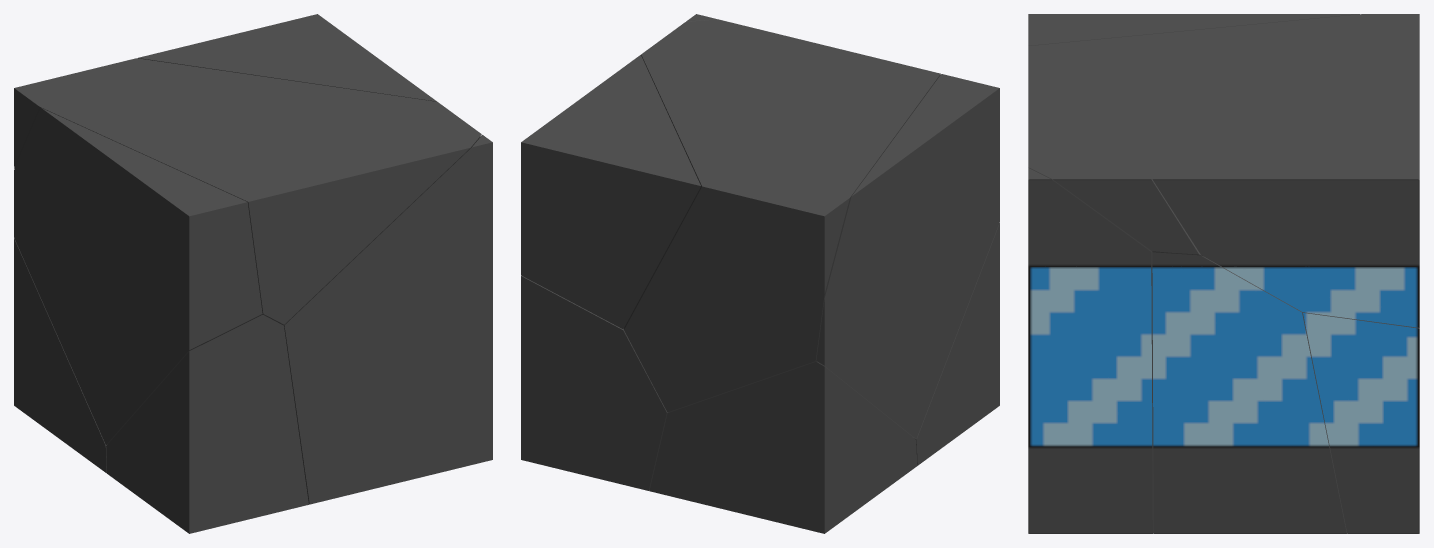
The model's file is GlassBuildingH128x128_Floor01_break.fbx.
The picture shows the model from 3 angles, left to right: view 1: azimuth 30°, elevation 25°; view 2: azimuth 150°, elevation 25°; view 3: azimuth 270°, elevation 25°; orthographic projection. The views are drawn at different scales.
Visible parts, largest first — view 1: Floor01Break02, Floor01Break04, Floor01Break07, Floor01Break08, Floor01Break05, Floor01Break06; view 2: Floor01Break02, Floor01Break07, Floor01Break05, Floor01Break06, Floor01Break03, Floor01Break08; view 3: Floor01Break02, Floor01Break01, Floor01Break05, Floor01Break04, Floor01Break03, Floor01Break07.
Part boxes in pixels (x1=…): Floor01Break02: x1=14, y1=58, x2=481, y2=325; Floor01Break04: x1=283, y1=135, x2=492, y2=504; Floor01Break07: x1=14, y1=108, x2=262, y2=444; Floor01Break08: x1=106, y1=314, x2=308, y2=533; Floor01Break05: x1=138, y1=14, x2=437, y2=101; Floor01Break06: x1=14, y1=238, x2=106, y2=473; Floor01Break02: x1=624, y1=19, x2=940, y2=412; Floor01Break07: x1=816, y1=74, x2=999, y2=438; Floor01Break05: x1=521, y1=55, x2=700, y2=328; Floor01Break06: x1=649, y1=362, x2=917, y2=533; Floor01Break03: x1=521, y1=275, x2=667, y2=490; Floor01Break08: x1=913, y1=223, x2=999, y2=465; Floor01Break02: x1=1028, y1=14, x2=1419, y2=255; Floor01Break01: x1=1152, y1=252, x2=1347, y2=533; Floor01Break05: x1=1152, y1=81, x2=1419, y2=327; Floor01Break04: x1=1028, y1=168, x2=1153, y2=533; Floor01Break03: x1=1303, y1=312, x2=1419, y2=533; Floor01Break07: x1=1028, y1=14, x2=1359, y2=45.
Bounding box in the file's own units: 100 × 100 × 100.
1 material, 1 textured.
